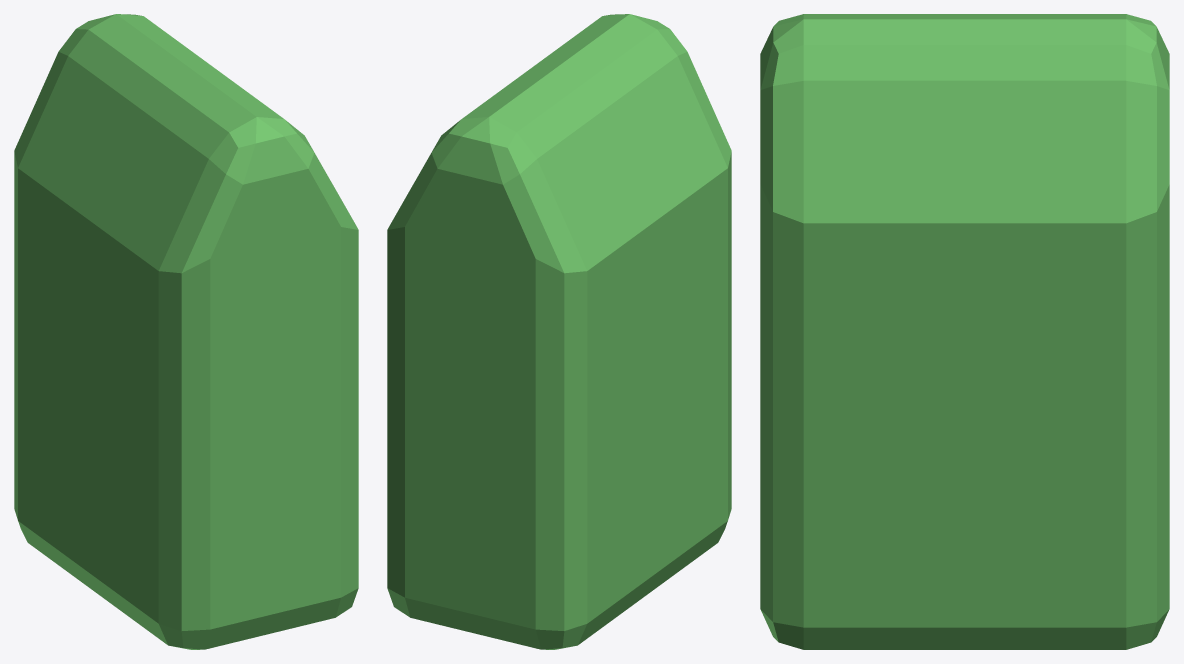
File: lixo_verde.glb
The picture shows the model from 3 angles, left to right: view 1: azimuth 30°, elevation 25°; view 2: azimuth 150°, elevation 25°; view 3: azimuth 270°, elevation 25°; orthographic projection. The views are drawn at different scales.
Parts seen in each view (by area): view 1: lixeiras; view 2: lixeiras; view 3: lixeiras.
Part boxes in pixels (x1=…): lixeiras: x1=14, y1=14, x2=358, y2=649; lixeiras: x1=387, y1=14, x2=731, y2=649; lixeiras: x1=760, y1=14, x2=1169, y2=649.
Size of the model in its own units: 0.3808 by 0.9586 by 0.5996.
